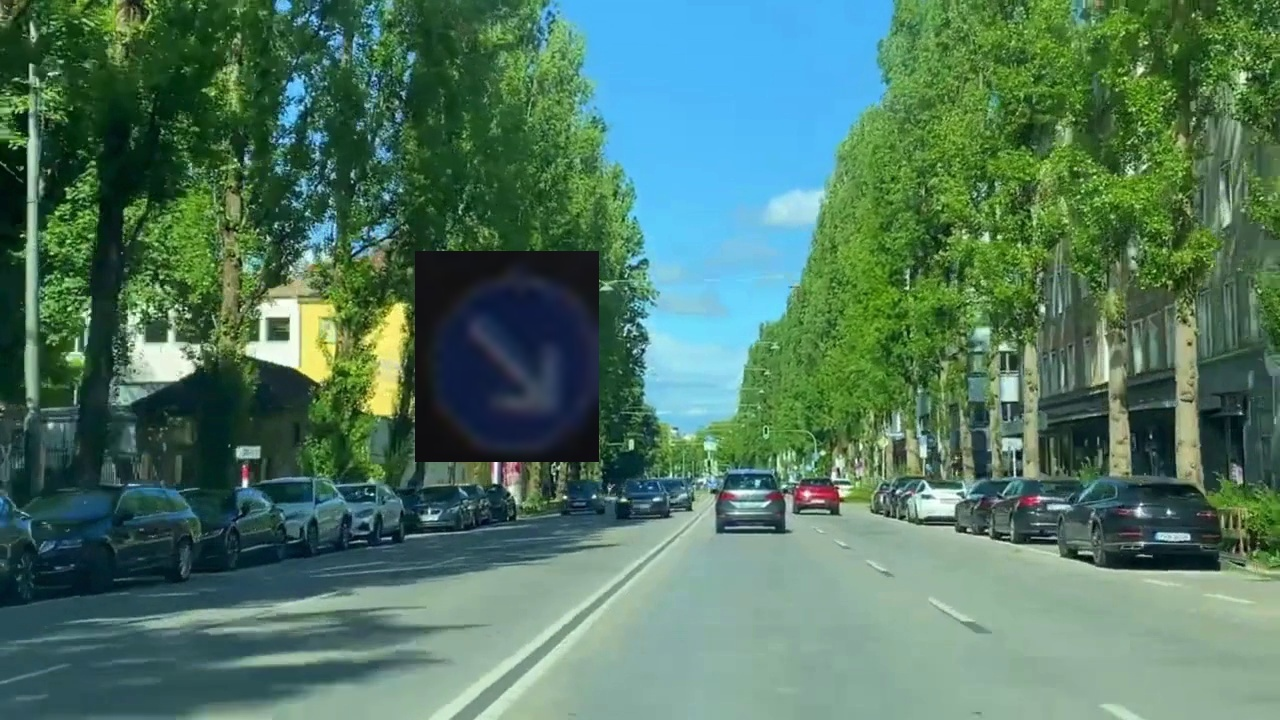Keep right: (415, 251, 599, 462)
